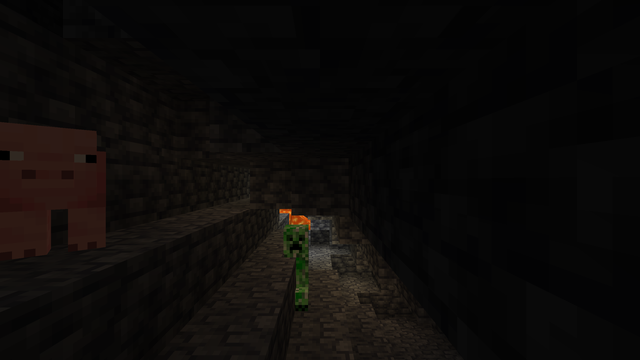cochons: (6, 144, 140, 256)
creepers: (280, 220, 310, 308)
